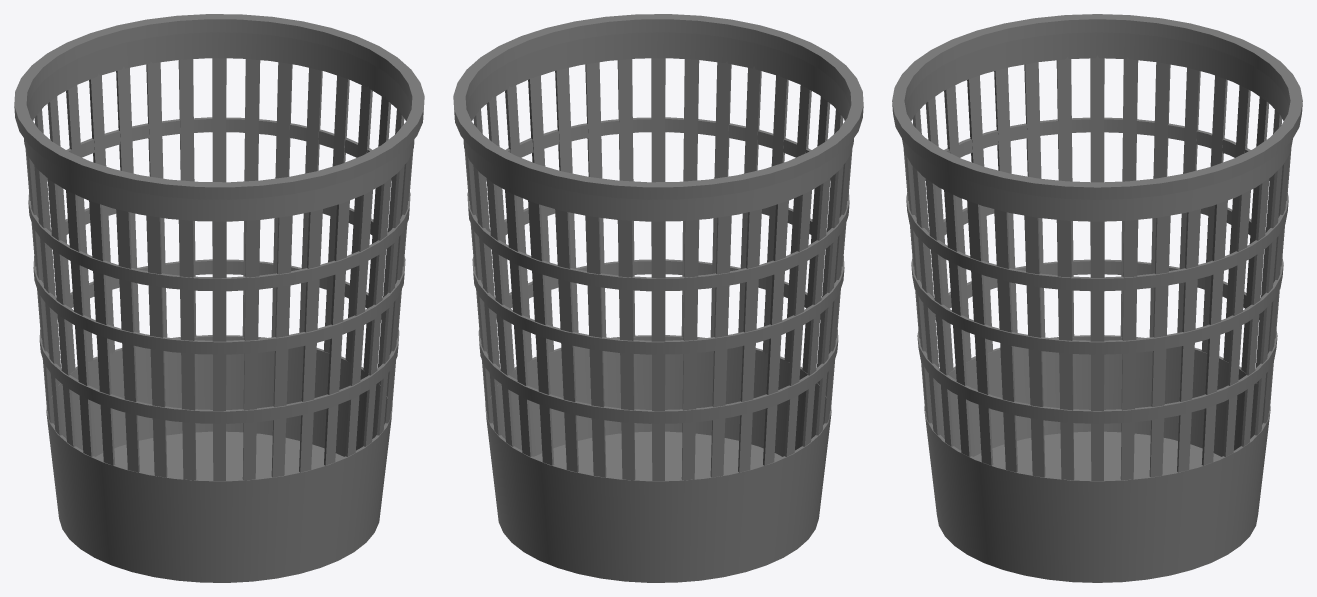
File: Trashcan.FBX
3 views of the same model, side by side, from view 1: azimuth 30°, elevation 25°; view 2: azimuth 150°, elevation 25°; view 3: azimuth 270°, elevation 25° (orthographic).
Visible parts, largest first — view 1: Trashcan; view 2: Trashcan; view 3: Trashcan.
Boxes of the visible parts, box(x1,y1,x2,y2) form: Trashcan: box(14, 14, 424, 582); Trashcan: box(453, 14, 863, 582); Trashcan: box(892, 14, 1302, 582).
Size of the model in its own units: 30.61 by 34.06 by 30.61.
Materials: 1 (1 with a texture image).
